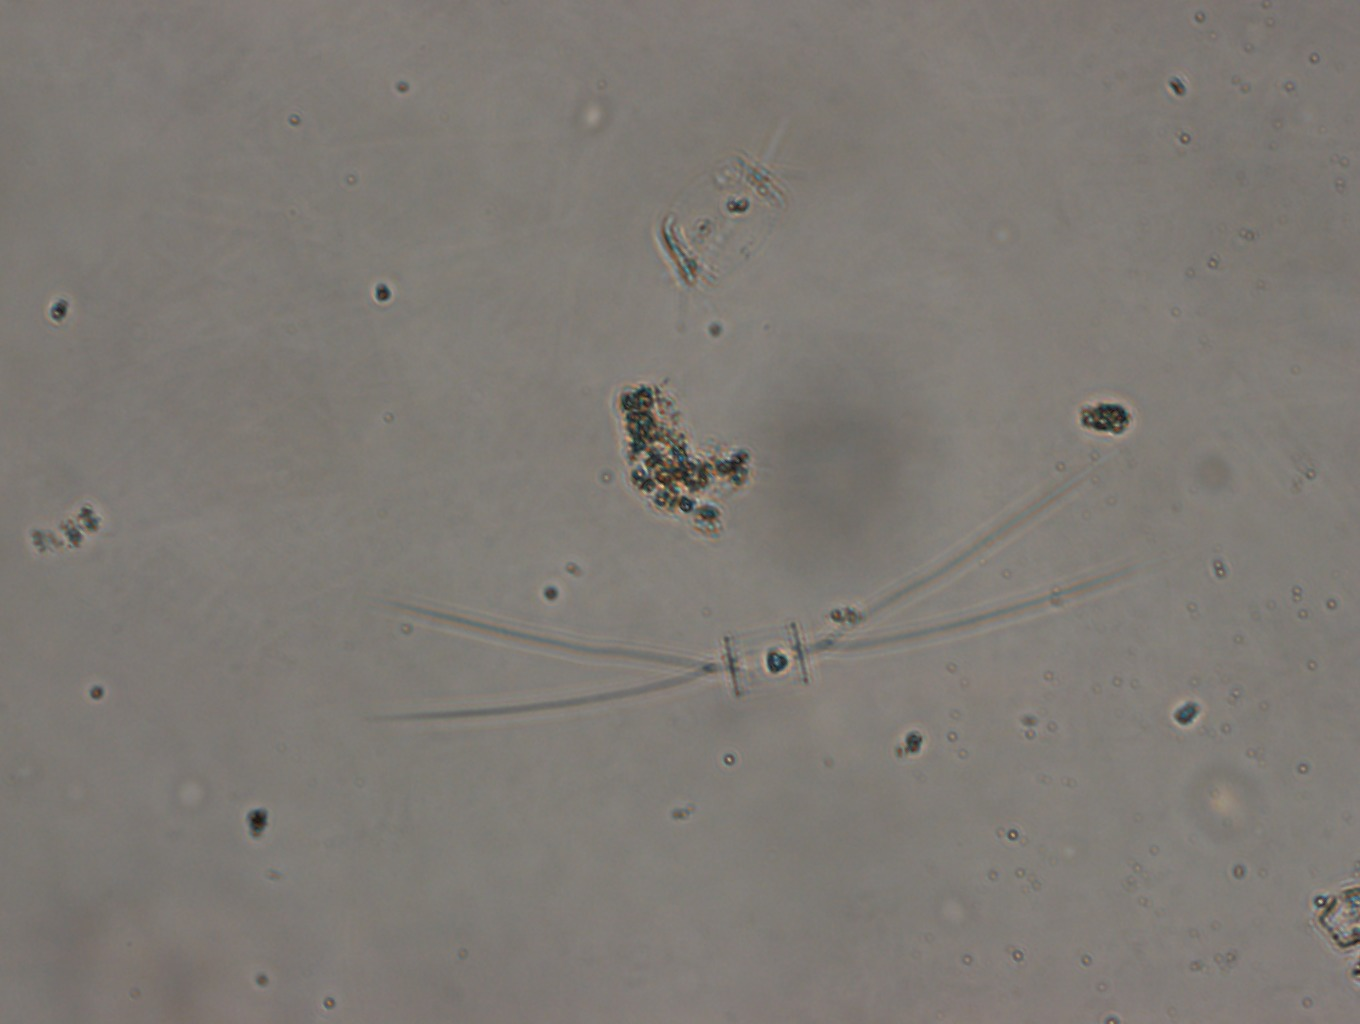chaetoceros: (383, 463, 1130, 726)
